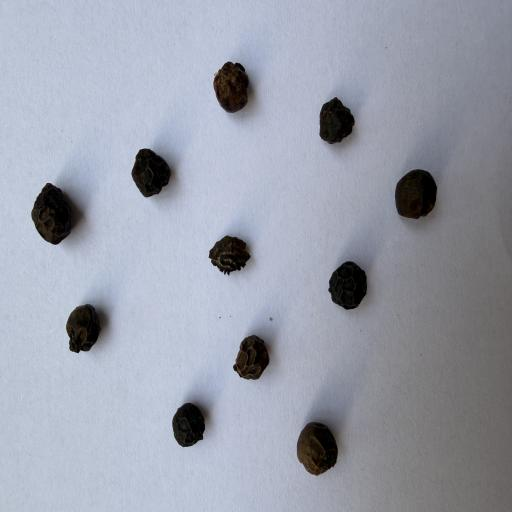Black_pepper: (22, 176, 83, 254), (386, 162, 444, 236), (289, 412, 346, 484), (322, 252, 379, 320), (165, 394, 224, 456), (215, 330, 279, 385), (207, 50, 254, 124), (124, 140, 176, 202), (314, 84, 359, 151), (64, 291, 106, 361)
papaya_seed: (193, 226, 256, 286)
